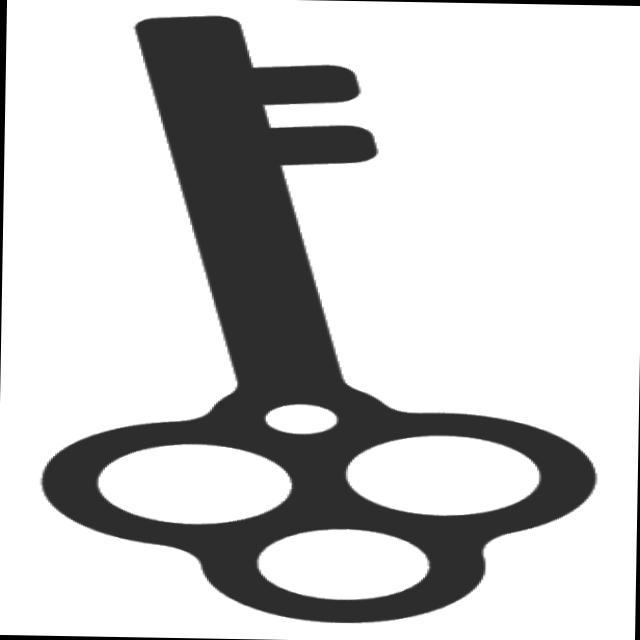key: (26, 1, 613, 636)
